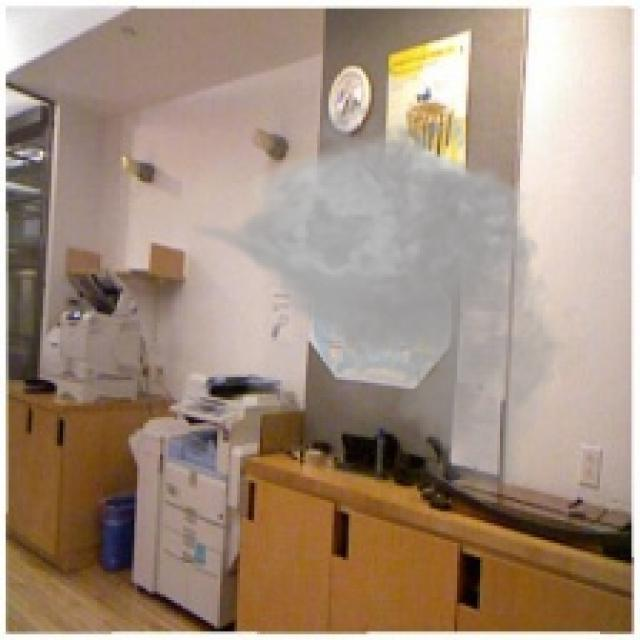Smoke: (183, 88, 580, 503)
